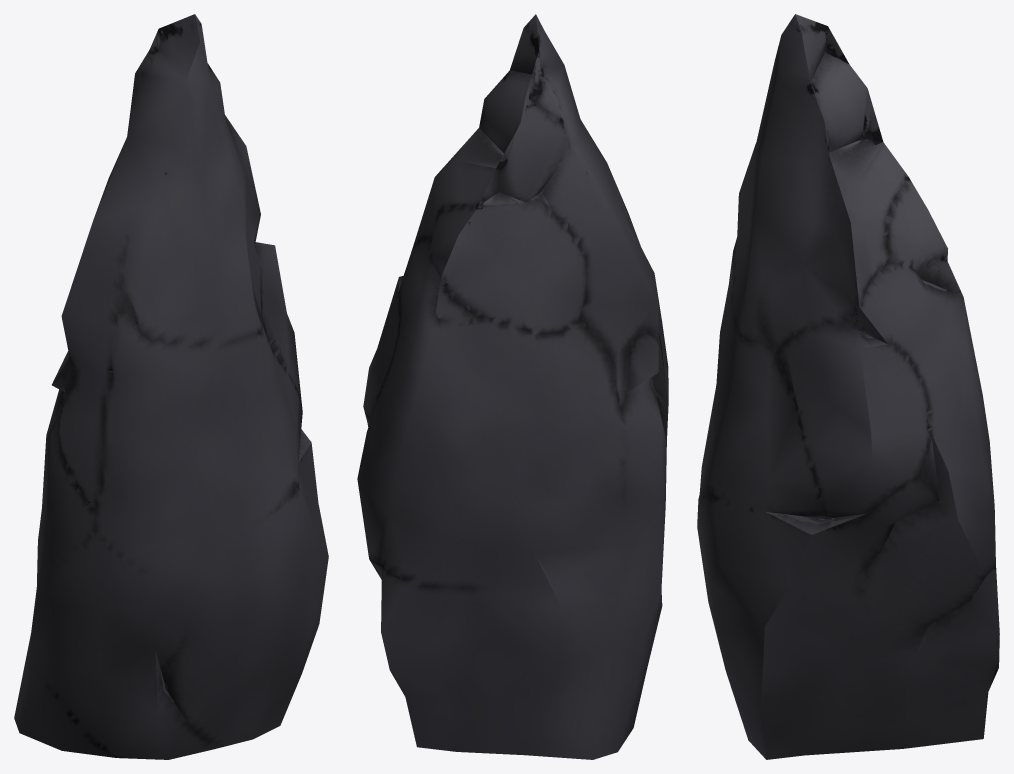
Rendered from Roca_Aguja.fbx.
3 renders of one model, left to right at view 1: azimuth 30°, elevation 25°; view 2: azimuth 150°, elevation 25°; view 3: azimuth 270°, elevation 25°, orthographic. The views are drawn at different scales.
Visible parts, largest first — view 1: Roca_Aguja; view 2: Roca_Aguja; view 3: Roca_Aguja.
Boxes of the visible parts, <box> form: Roca_Aguja: <box>14,14,328,759</box>; Roca_Aguja: <box>357,14,668,759</box>; Roca_Aguja: <box>697,14,999,759</box>.
Size of the model in its own units: 0.7076 by 1.71 by 0.658.
Materials: 1 (1 with a texture image).
